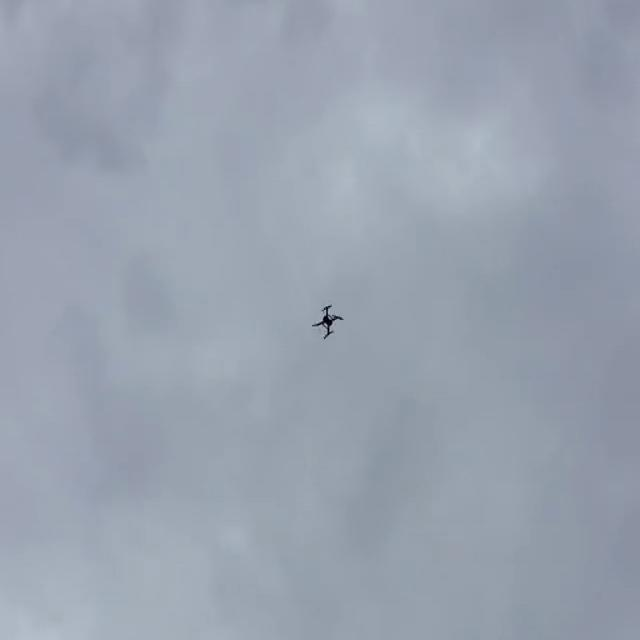drone: (308, 290, 348, 349)
